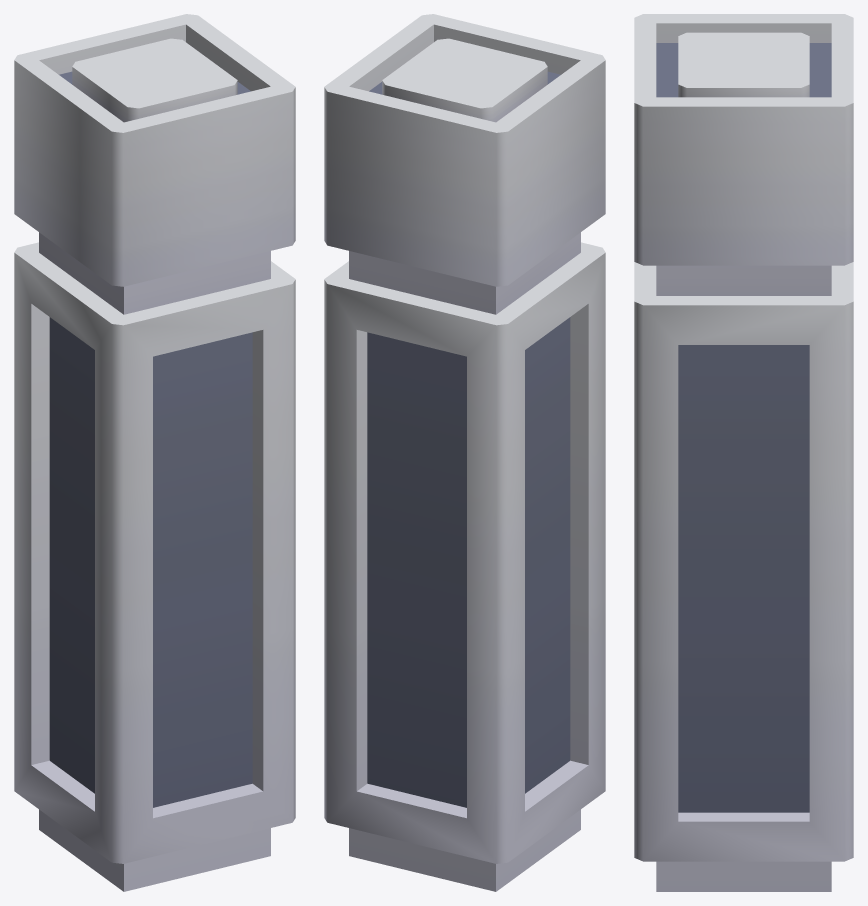
The model's file is blda.glb.
3 renders of one model, left to right at view 1: azimuth 30°, elevation 25°; view 2: azimuth 150°, elevation 25°; view 3: azimuth 270°, elevation 25°, orthographic. The views are drawn at different scales.
Visible parts, largest first — view 1: low-detail-building-a; view 2: low-detail-building-a; view 3: low-detail-building-a.
Boxes of the visible parts, x1,y1,x2,y2 form: low-detail-building-a: (14,14,295,891); low-detail-building-a: (324,14,605,891); low-detail-building-a: (634,14,853,891).
Bounding box in the file's own units: 0.5001 × 2 × 0.5001.
Materials: 1 (1 with a texture image).
